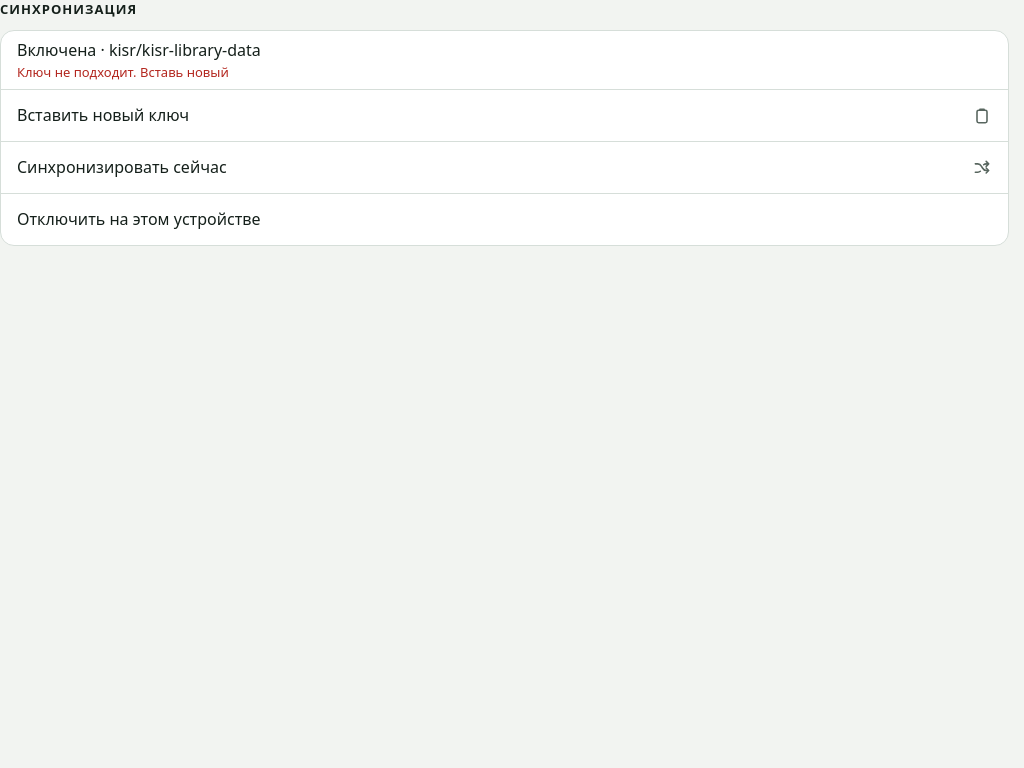
Test: SyncSection: включена › ключ не подходит — «Вставить новый ключ» открывает шторку
Click the button "Вставить новый ключ" at point(103, 115), box [1,89,1008,141]
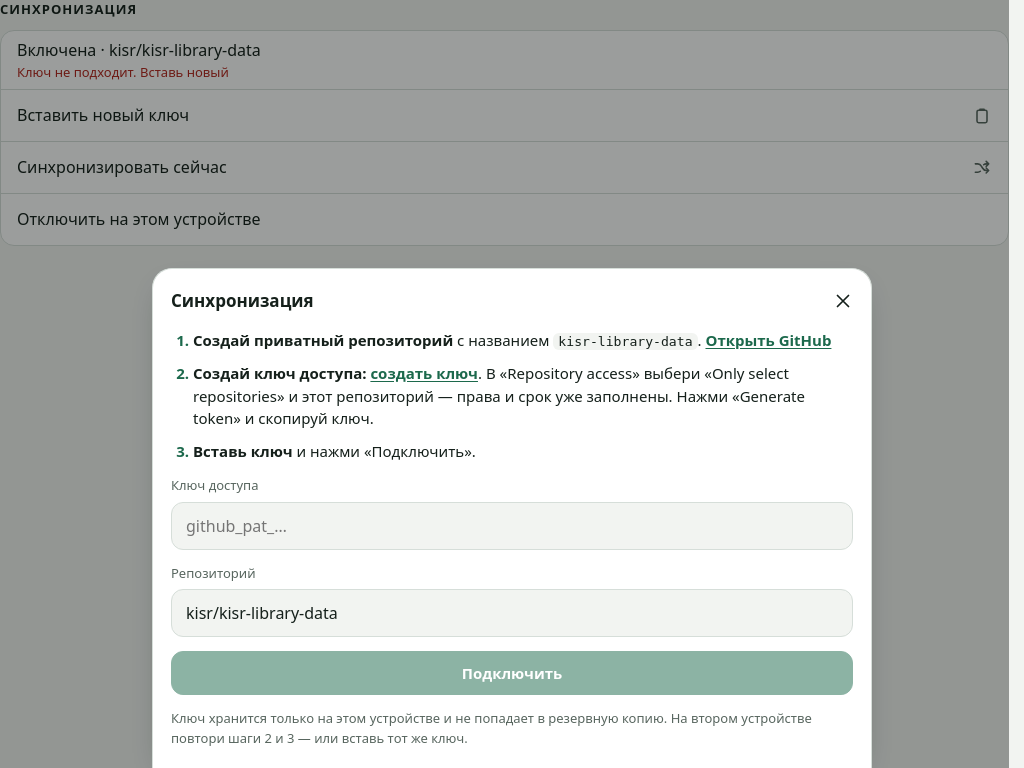
Now the password field labelled "Ключ доступа" is shown, box [171,502,853,550]
Now the field named "repo" holds "kisr/kisr-library-data", box [171,589,853,637]
